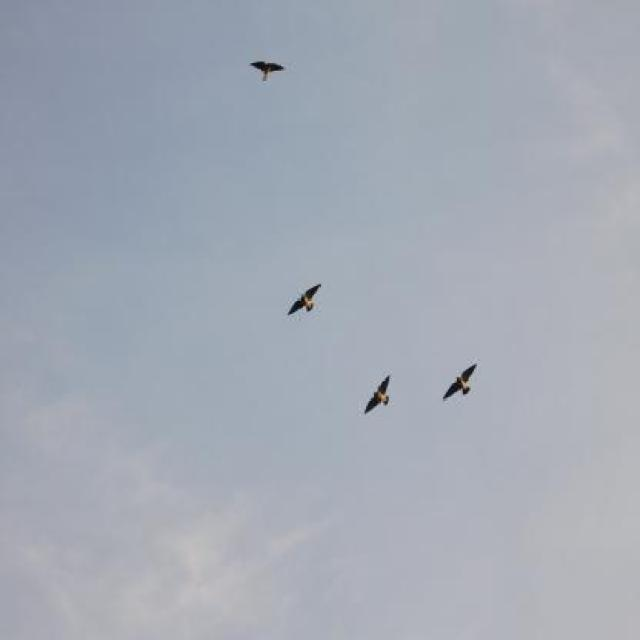bird: (443, 363, 479, 400), (288, 283, 322, 315), (363, 376, 389, 416), (249, 62, 285, 82)
